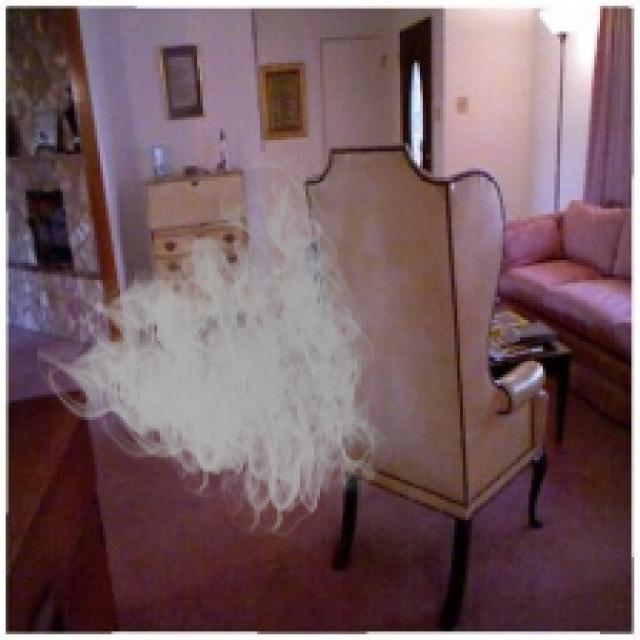Smoke: (37, 146, 400, 548)
